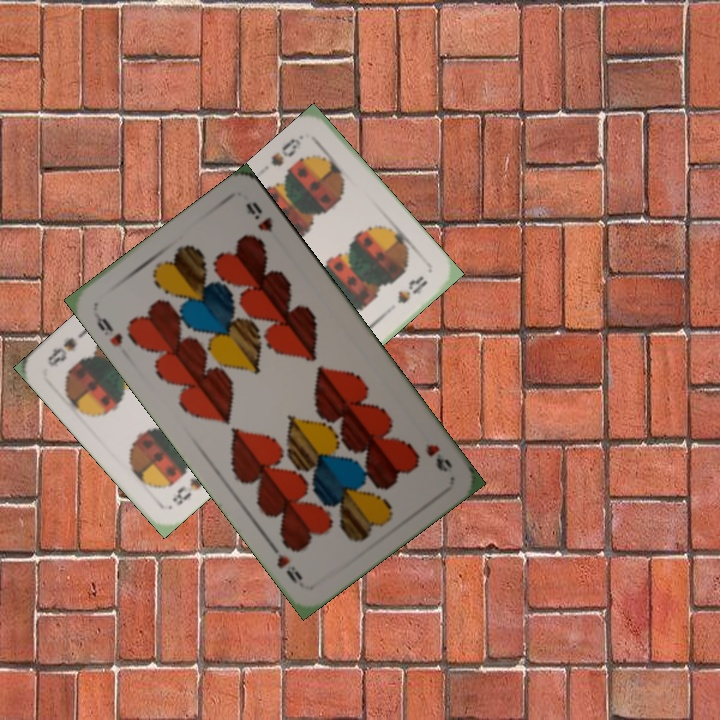H9: (89, 308, 125, 350), (422, 440, 455, 475)
S8: (266, 130, 306, 170), (168, 473, 205, 509)
